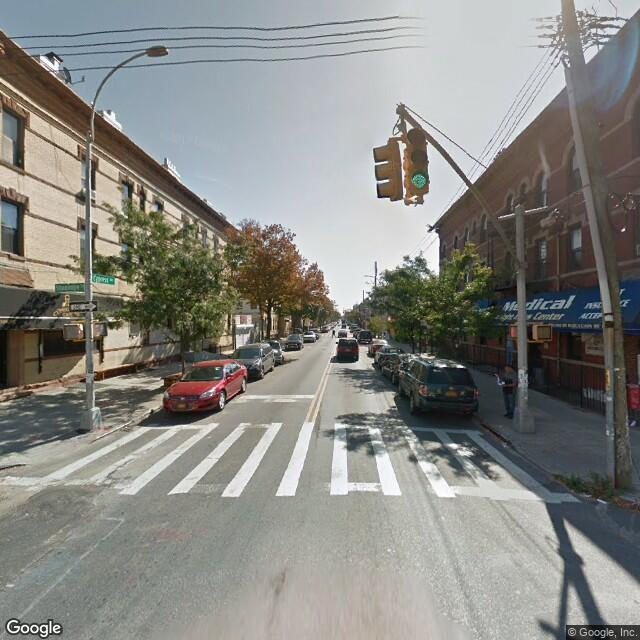litter: (588, 494, 616, 514)
